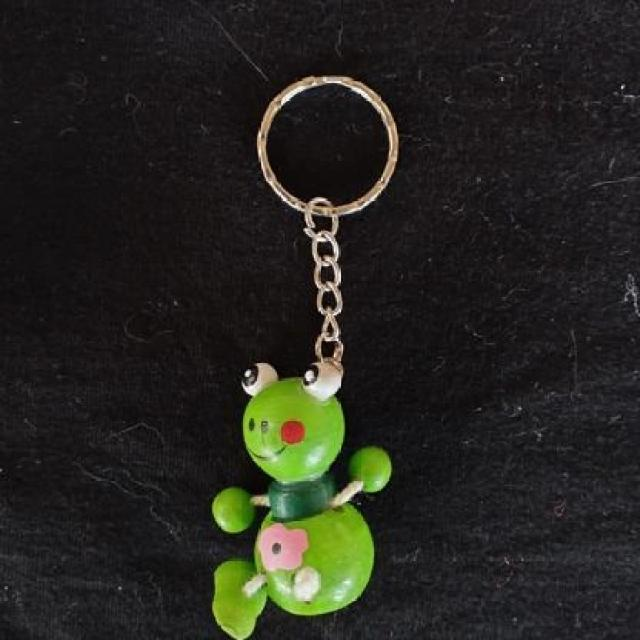Llavero: (209, 357, 393, 640)
